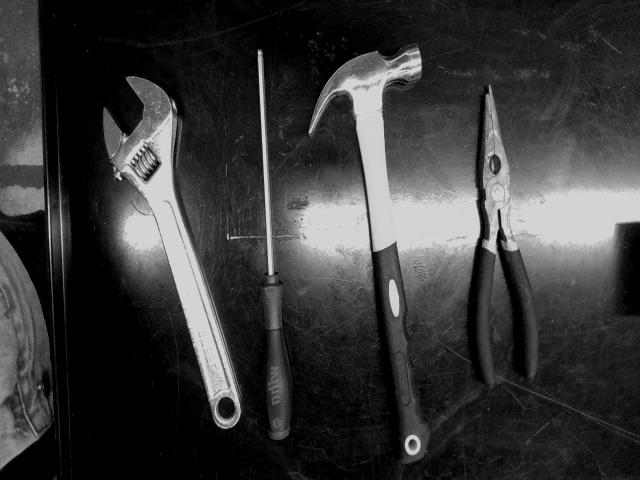Adjustable spanner: (102, 77, 241, 427)
Hammer: (309, 46, 429, 463)
Needle-nose pliers: (472, 88, 539, 388)
Screwdriver: (258, 51, 292, 440)
